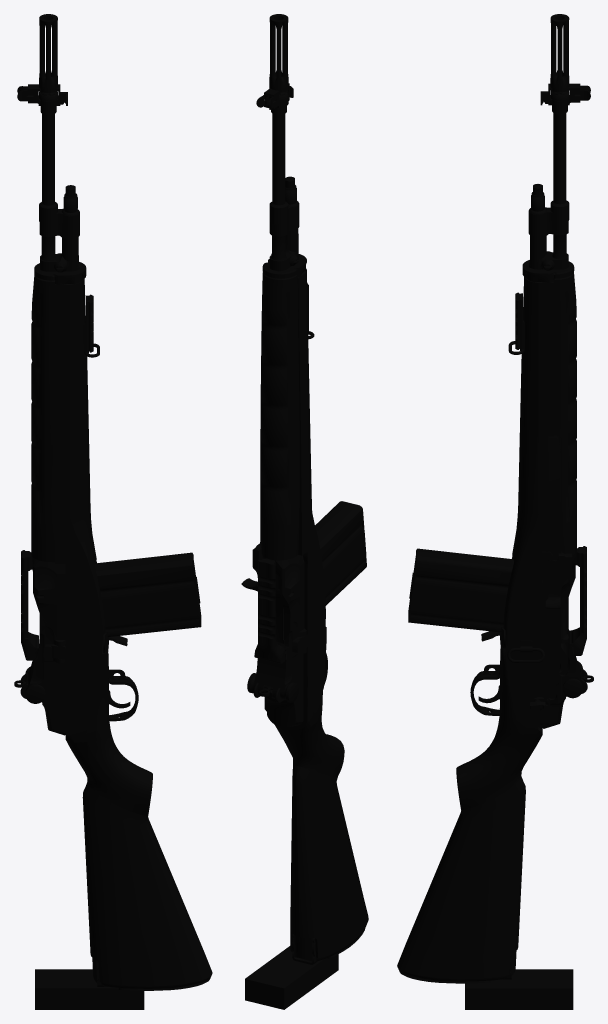
Rendered from M14__RecoilPad_Rubber.fbx.
3 views of the same model, side by side, from view 1: azimuth 90°, elevation 25°; view 2: azimuth 150°, elevation 25°; view 3: azimuth 270°, elevation 25° (orthographic).
Parts seen in each view (by area): view 1: asset_M14.001; view 2: asset_M14.001; view 3: asset_M14.001.
Part boxes in pixels (x1=…): asset_M14.001: x1=14, y1=14, x2=212, y2=1009; asset_M14.001: x1=241, y1=14, x2=368, y2=1009; asset_M14.001: x1=397, y1=14, x2=593, y2=1009.
Size of the model in its own units: 0.044 by 0.687 by 0.1252.
